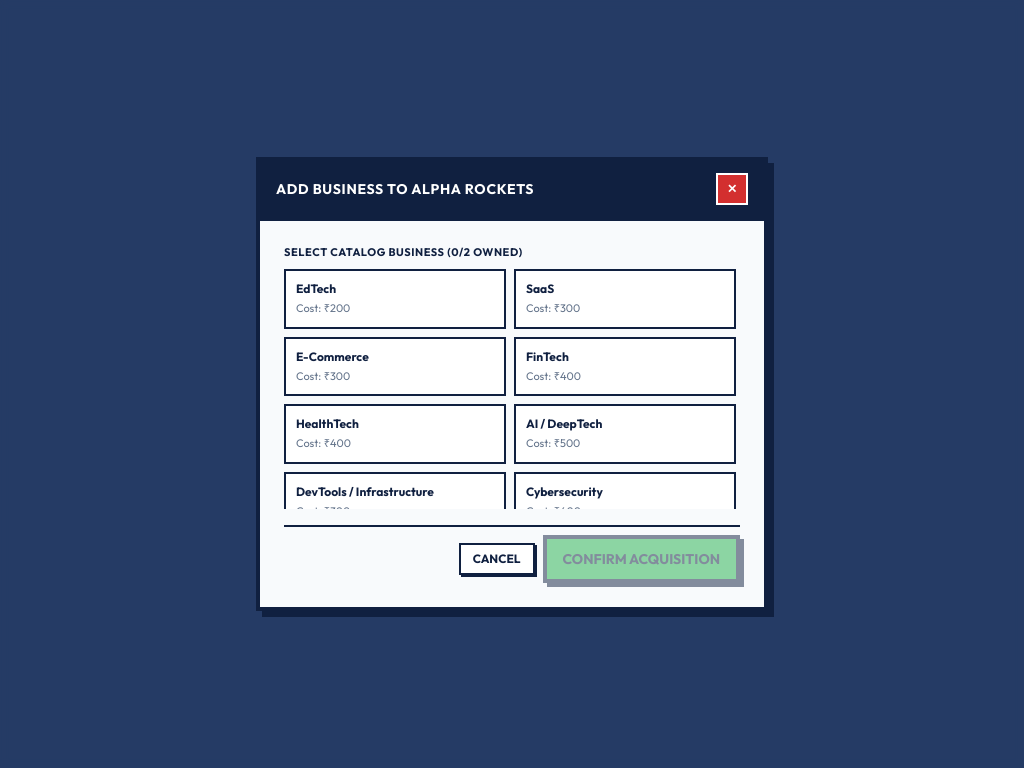
Scenario: AddBusinessDialog › needs a note for a manual (free) entry and not for a normal purchase
The width and height of the screenshot is (1024, 768).
Click the text "EdTech". click: [316, 289]
box: [296,281,336,297]
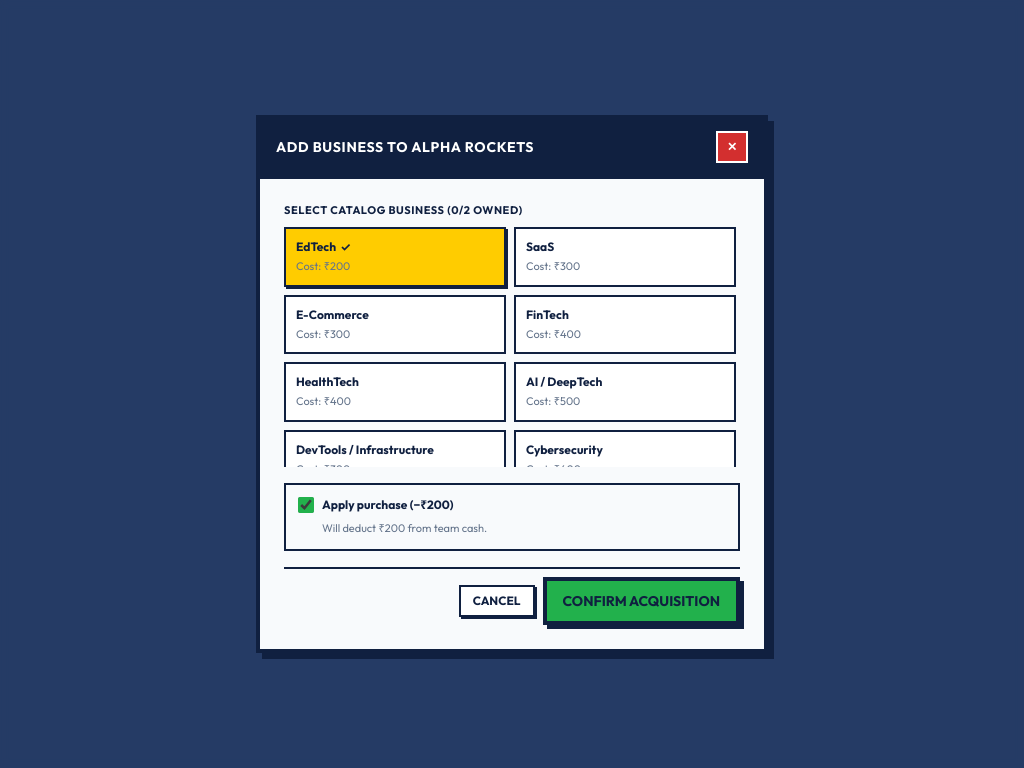
Check: the button "CONFIRM ACQUISITION" is enabled, box [543,577,740,625]
Click the checkbox. click: [306, 505]
box: [298,497,314,513]
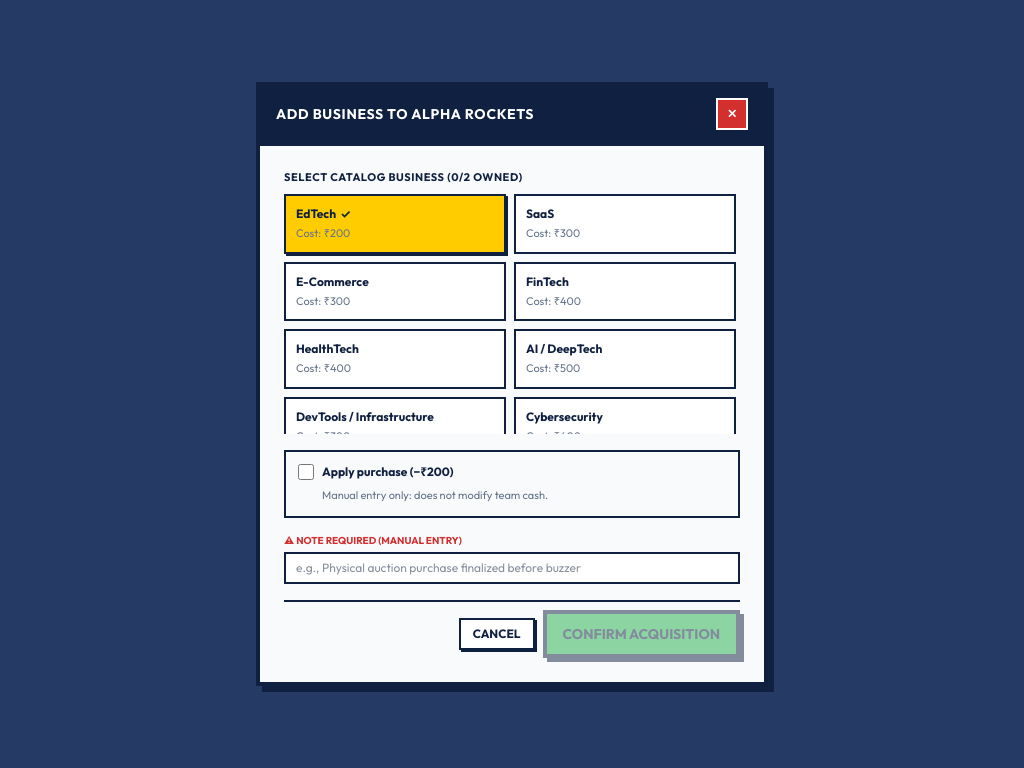
Check: the button "CONFIRM ACQUISITION" is disabled, box [543,610,740,658]
Check: the text "⚠ NOTE REQUIRED (MANUAL ENTRY)" is shown, box [284,534,462,547]
Type "board dispute" into the field with placeholder "e.g., Physical auction purchase finalized before buzzer". click: [512, 568]
box: [284,552,740,584]
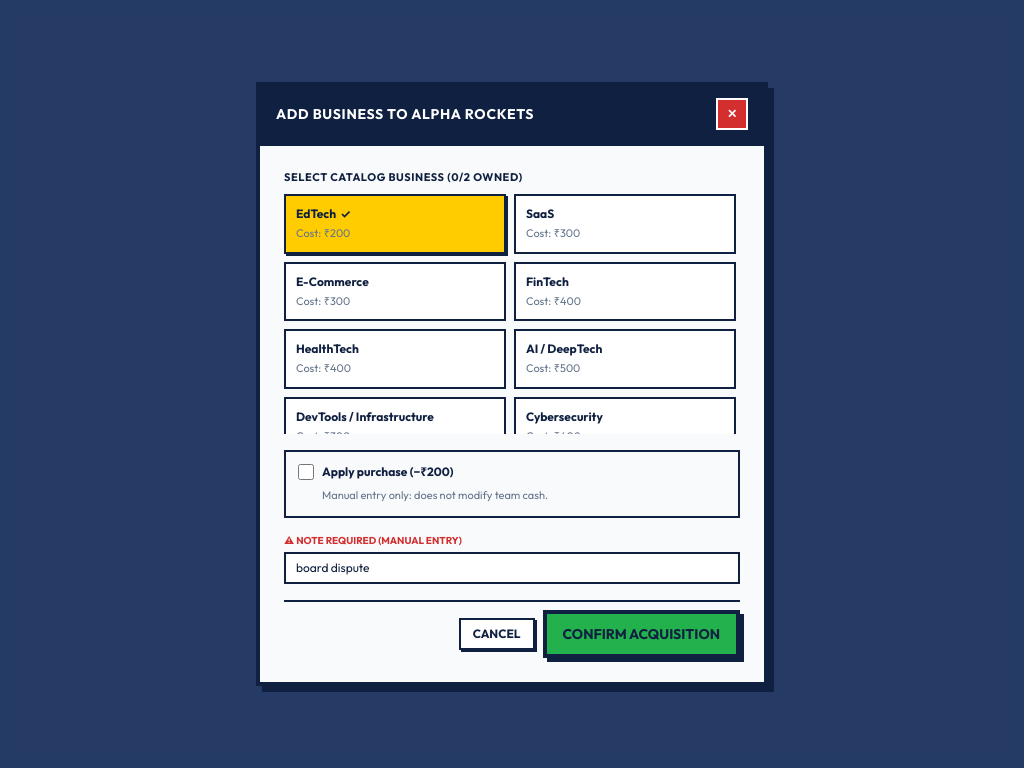
Check: the button "CONFIRM ACQUISITION" is enabled, box [543,610,740,658]
